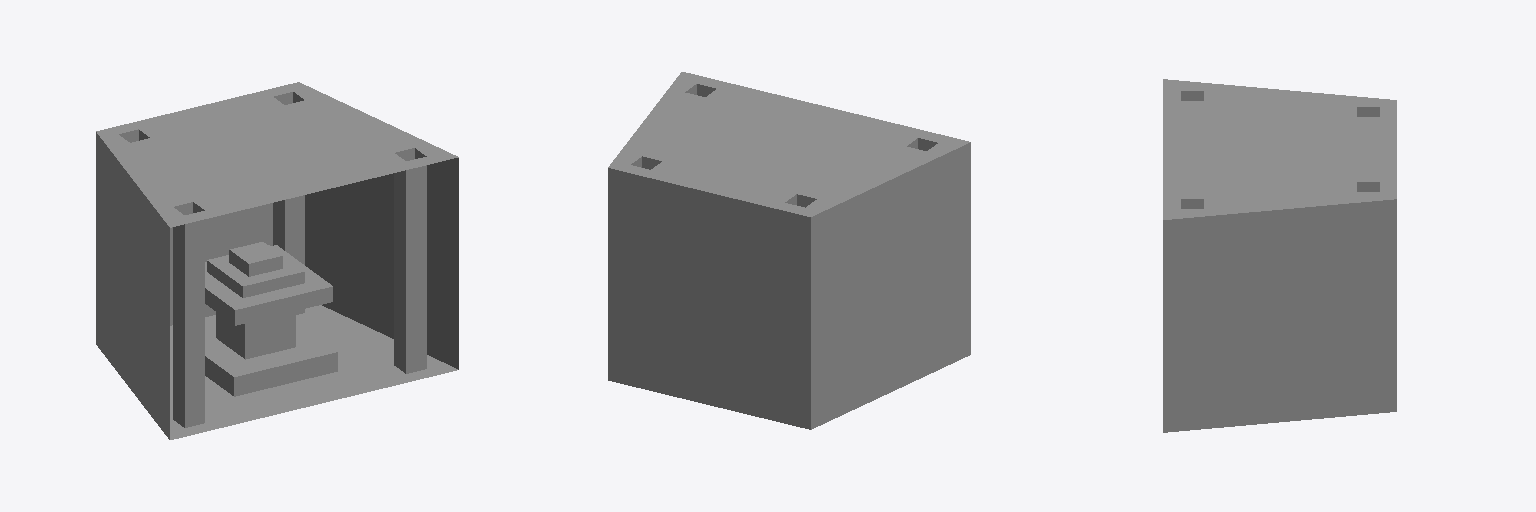
Rendered from throne.obj.
The picture shows the model from 3 angles: view 1: azimuth 30°, elevation 25°; view 2: azimuth 150°, elevation 25°; view 3: azimuth 270°, elevation 25°; orthographic projection.
Parts seen in each view (by area): view 1: Cube; view 2: Cube; view 3: Cube.
Boxes of the visible parts, x1,y1,x2,y2 form: Cube: [96, 82, 458, 439]; Cube: [608, 72, 970, 429]; Cube: [1163, 79, 1396, 432].
Size of the model in its own units: 2.85 by 2 by 2.